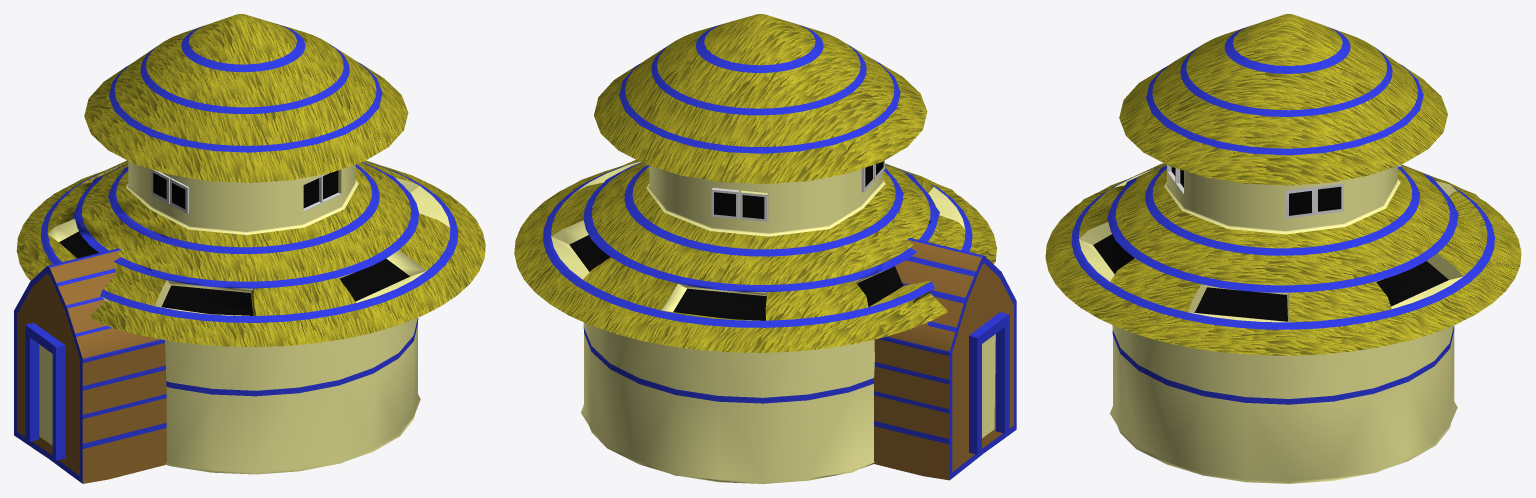
File: House4.fbx
3 views of the same model, side by side, from view 1: azimuth 30°, elevation 25°; view 2: azimuth 150°, elevation 25°; view 3: azimuth 270°, elevation 25° (orthographic). The views are drawn at different scales.
Parts seen in each view (by area): view 1: H1.001; view 2: H1.001; view 3: H1.001.
Boxes of the visible parts, bbox=[...] form: H1.001: bbox=[14, 14, 485, 483]; H1.001: bbox=[514, 14, 1016, 483]; H1.001: bbox=[1045, 14, 1521, 483].
Size of the model in its own units: 382 by 332 by 366.
Materials: 6 (1 with a texture image).
